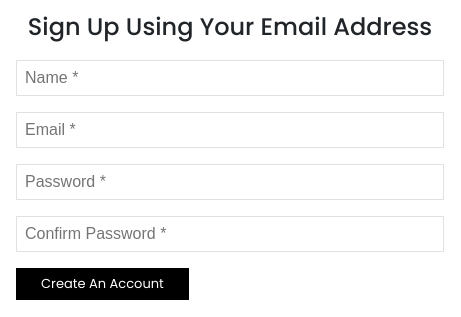
Test: Register page › interactions › displays error messages if the user clicks the create an account button while all input fields are empty
Click the button "create an account" at (102, 284), box top-left (16, 268), bottom-right (189, 300)
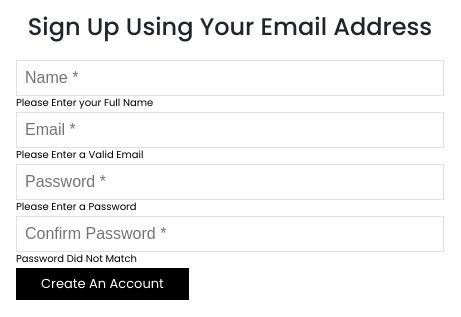
Now the text "Please Enter your Full Name" is shown, box top-left (16, 95), bottom-right (153, 111)
Now the text "Please Enter a Password" is shown, box top-left (16, 199), bottom-right (137, 215)
Now the text "Please Enter a Valid Email" is shown, box top-left (16, 147), bottom-right (144, 163)
